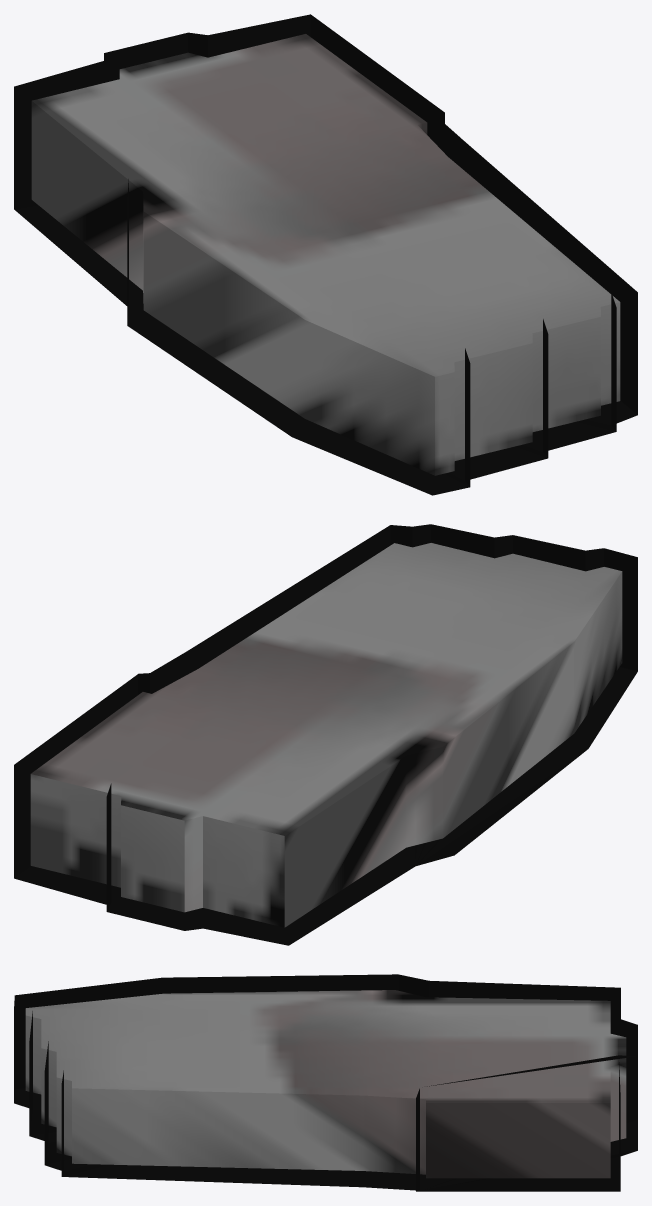
Rendered from Building_ScrapCubeSculpture_Things_Building_CubeSculptures_CubeSculpture_Scrap_CubeSculpture_ScrapC.glb.
3 renders of one model, top to bottom at view 1: azimuth 30°, elevation 25°; view 2: azimuth 150°, elevation 25°; view 3: azimuth 270°, elevation 25°, orthographic. The views are drawn at different scales.
Visible parts, largest first — view 1: Body, Outline; view 2: Body, Outline; view 3: Body, Outline.
Boxes of the visible parts, x1,y1,x2,y2 form: Body: (31,34,620,475); Outline: (14,14,637,495); Body: (30,543,622,927); Outline: (14,524,637,945); Body: (25,990,626,1178); Outline: (14,974,637,1191).
Bounding box in the file's own units: 0.5255 × 0.2064 × 1.13.
2 materials, 1 textured.
